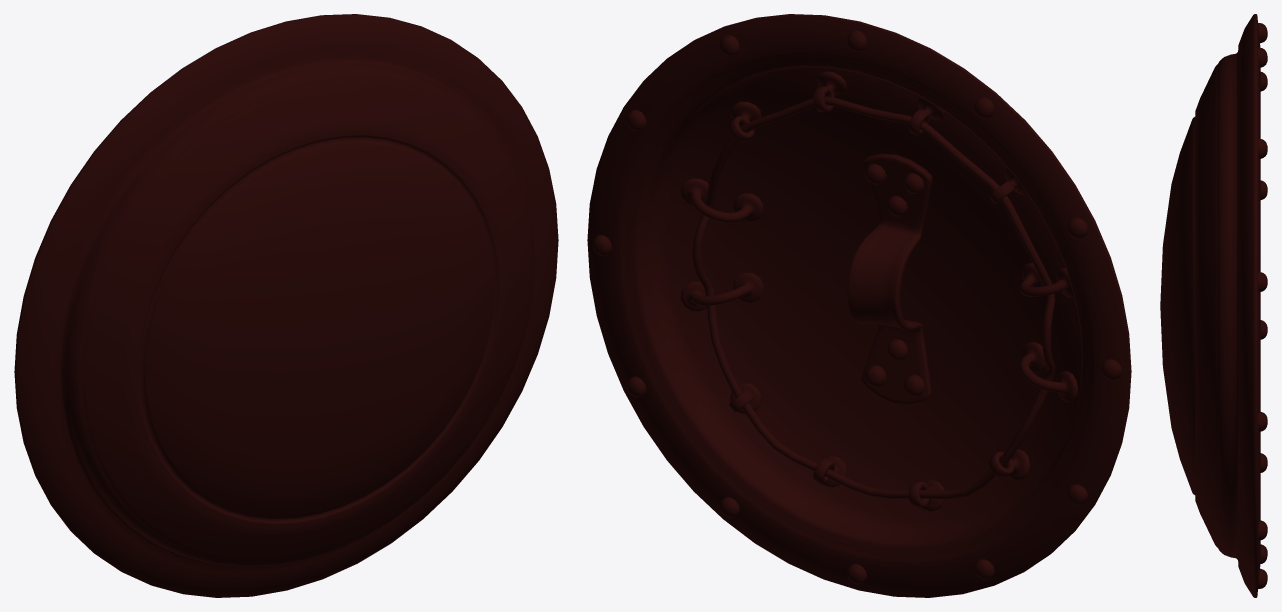
Rendered from Greek_Shield_01.obj.
3 views of the same model, side by side, from view 1: azimuth 30°, elevation 25°; view 2: azimuth 150°, elevation 25°; view 3: azimuth 270°, elevation 25° (orthographic). The views are drawn at different scales.
Visible parts, largest first — view 1: shield_greek_2_001_Plane; view 2: shield_greek_2_001_Plane; view 3: shield_greek_2_001_Plane.
Boxes of the visible parts, x1,y1,x2,y2 form: shield_greek_2_001_Plane: [14, 14, 558, 597]; shield_greek_2_001_Plane: [587, 14, 1131, 597]; shield_greek_2_001_Plane: [1160, 14, 1267, 597].
Size of the model in its own units: 0.9639 by 0.9639 by 0.1771.
